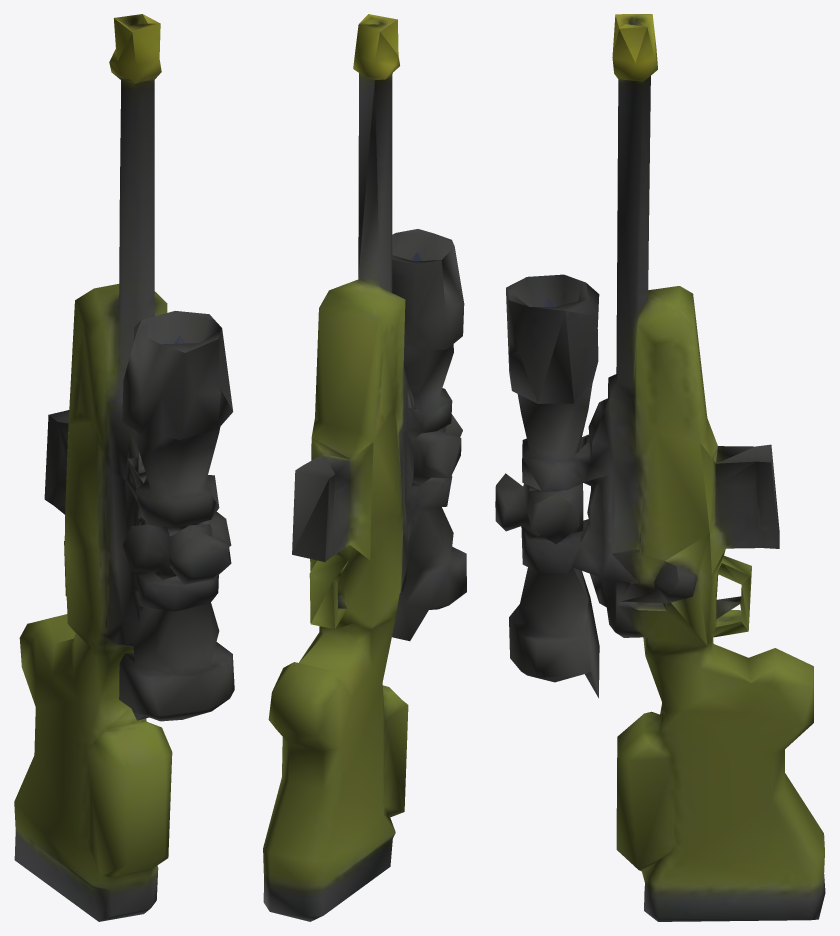
Rendered from widow.glb.
3 views of the same model, side by side, from view 1: azimuth 30°, elevation 25°; view 2: azimuth 150°, elevation 25°; view 3: azimuth 270°, elevation 25° (orthographic). The views are drawn at different scales.
Visible parts, largest first — view 1: widow, part_mag; view 2: widow, part_mag; view 3: widow, part_mag, part_bolt.
Boxes of the visible parts, x1,y1,x2,y2 form: widow: (14, 14, 234, 921); part_mag: (44, 410, 69, 514); widow: (263, 14, 466, 921); part_mag: (292, 438, 373, 561); widow: (495, 14, 825, 921); part_mag: (700, 443, 779, 574); part_bolt: (612, 534, 709, 645).
Size of the model in its own units: 0.1392 by 1.15 by 0.3846.
1 material, 1 textured.
